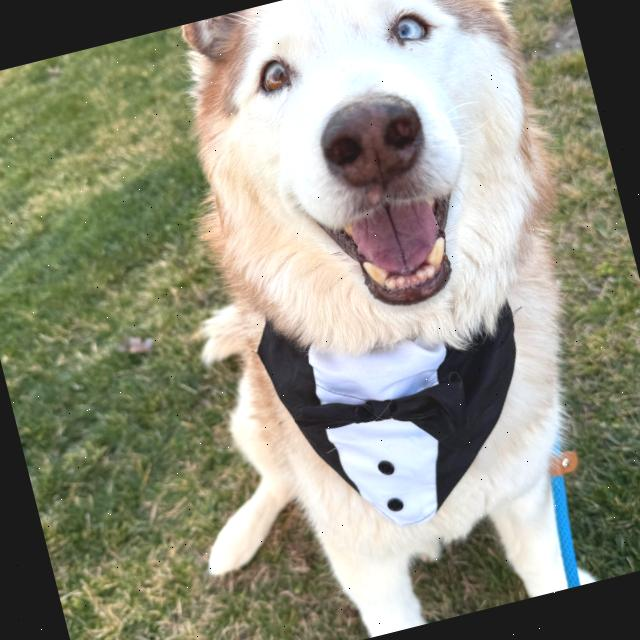siberian_husky_dog: (170, 0, 591, 387)
